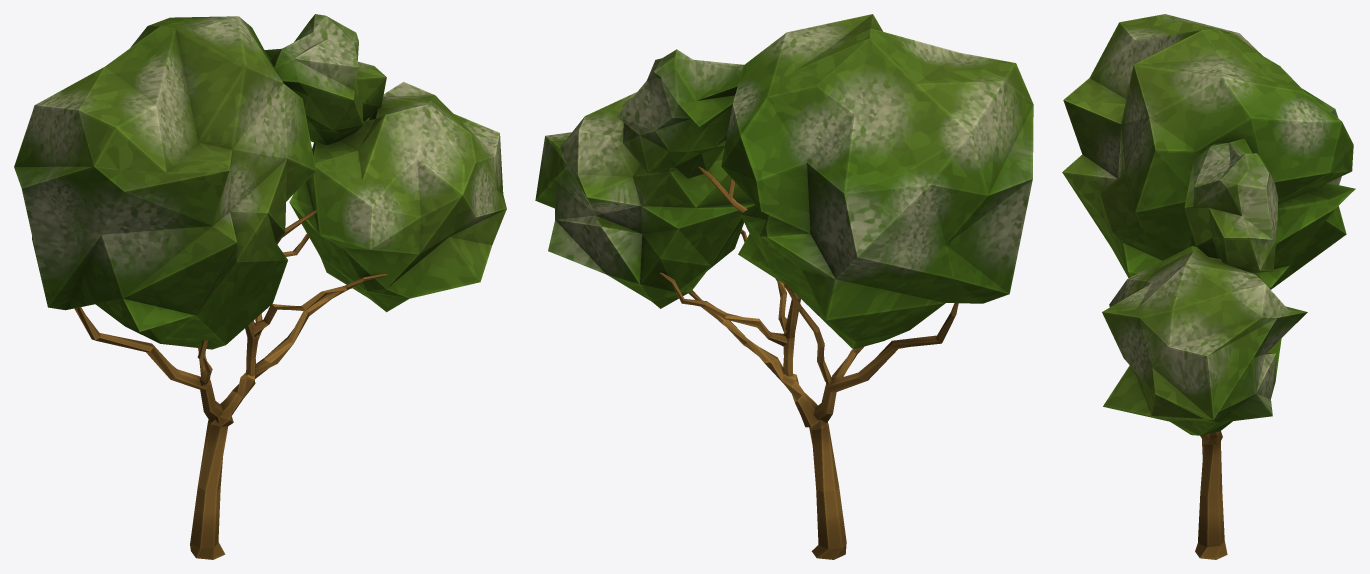
The model's file is Tree3.glb.
3 views of the same model, side by side, from view 1: azimuth 30°, elevation 25°; view 2: azimuth 150°, elevation 25°; view 3: azimuth 270°, elevation 25° (orthographic). The views are drawn at different scales.
Visible parts, largest first — view 1: BloodwoodTree_mesh; view 2: BloodwoodTree_mesh; view 3: BloodwoodTree_mesh.
Part boxes in pixels (x1,y1,x2,y2): BloodwoodTree_mesh: (14,14,506,559); BloodwoodTree_mesh: (535,14,1033,559); BloodwoodTree_mesh: (1062,14,1355,559).
Bounding box in the file's own units: 11.3 × 11.77 × 6.2.
Materials: 1 (1 with a texture image).
